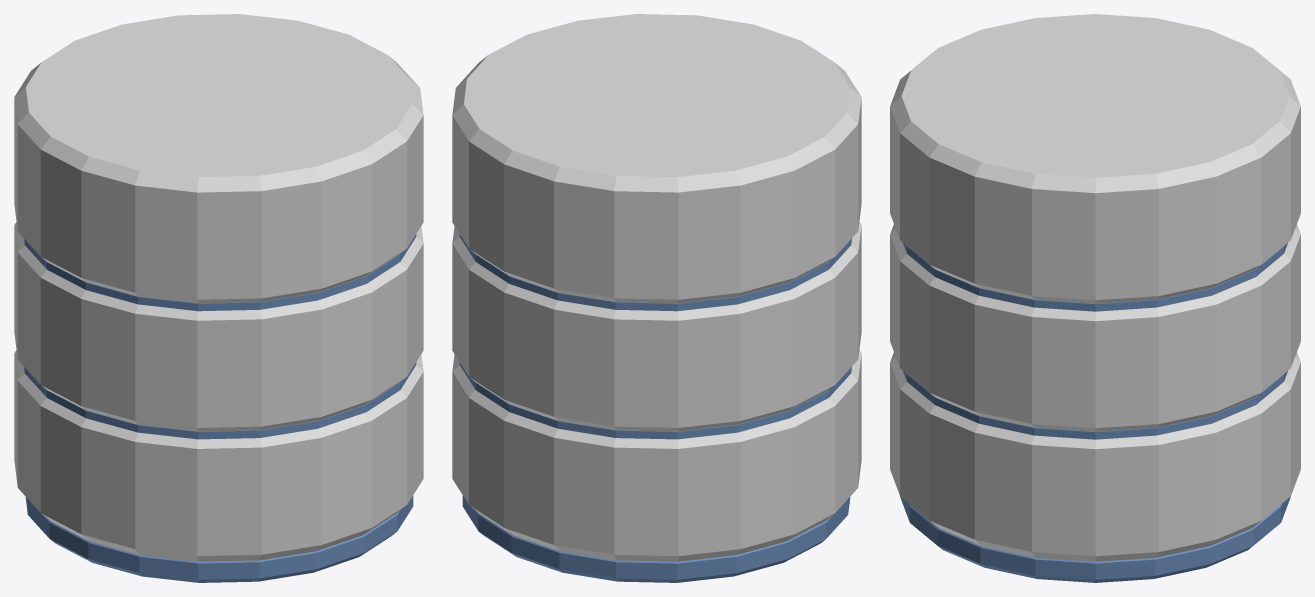
File: database.glb
3 renders of one model, left to right at view 1: azimuth 30°, elevation 25°; view 2: azimuth 150°, elevation 25°; view 3: azimuth 270°, elevation 25°, orthographic.
Visible parts, largest first — view 1: platter.2, platter.0, platter.1, base, collar.0, collar.1; view 2: platter.2, platter.0, platter.1, base, collar.0, collar.1; view 3: platter.2, platter.0, platter.1, base, collar.0, collar.1.
Boxes of the visible parts, x1=… form: platter.2: x1=14, y1=14, x2=423, y2=303; platter.0: x1=14, y1=350, x2=423, y2=561; platter.1: x1=14, y1=222, x2=423, y2=431; base: x1=25, y1=495, x2=413, y2=582; collar.0: x1=24, y1=362, x2=416, y2=439; collar.1: x1=24, y1=234, x2=416, y2=311; platter.2: x1=452, y1=14, x2=861, y2=303; platter.0: x1=452, y1=350, x2=861, y2=561; platter.1: x1=452, y1=222, x2=861, y2=431; base: x1=462, y1=495, x2=850, y2=582; collar.0: x1=459, y1=362, x2=851, y2=439; collar.1: x1=459, y1=234, x2=851, y2=311; platter.2: x1=890, y1=14, x2=1300, y2=303; platter.0: x1=890, y1=352, x2=1300, y2=561; platter.1: x1=890, y1=224, x2=1300, y2=431; base: x1=900, y1=497, x2=1290, y2=582; collar.0: x1=903, y1=371, x2=1287, y2=439; collar.1: x1=903, y1=243, x2=1287, y2=311.
Size of the model in its own units: 1.6 by 1.75 by 1.6.
